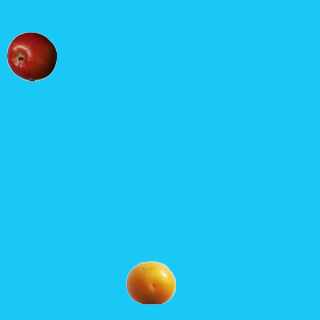Apple Braeburn: (6, 31, 56, 81)
Cherry Wax Yellow: (125, 257, 175, 307)
